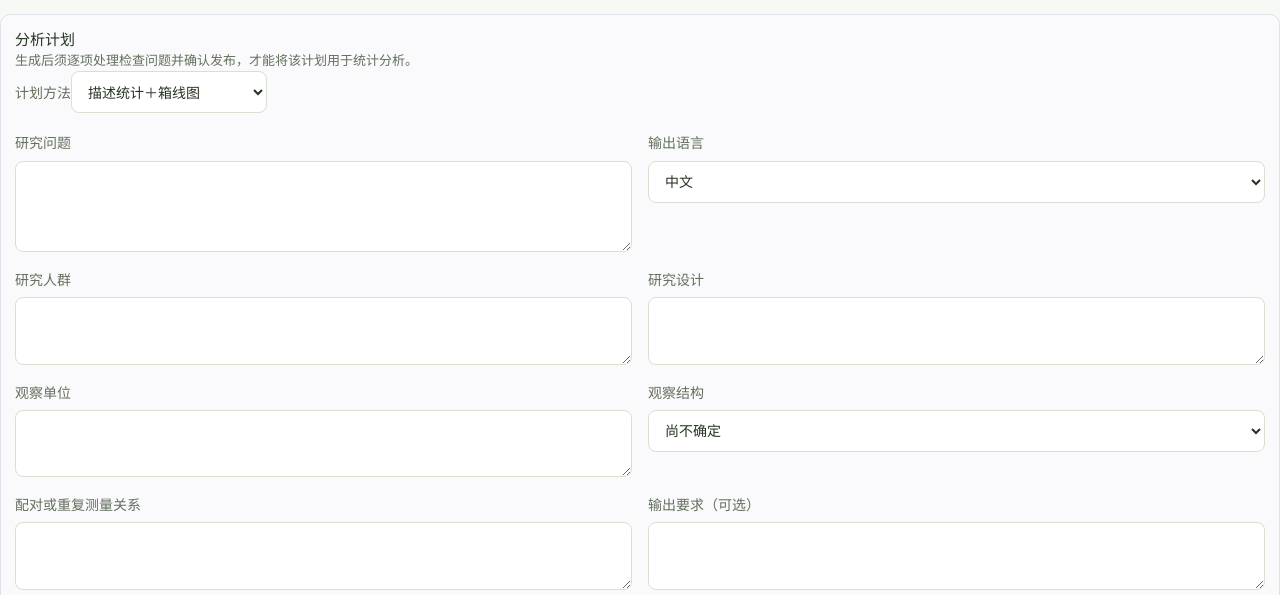
six comparison methods are available and full group options preserve user selection order
The width and height of the screenshot is (1280, 595).
Select "Welch t" in the dropdown labelled "计划方法": (169, 92) [71,71,267,113]
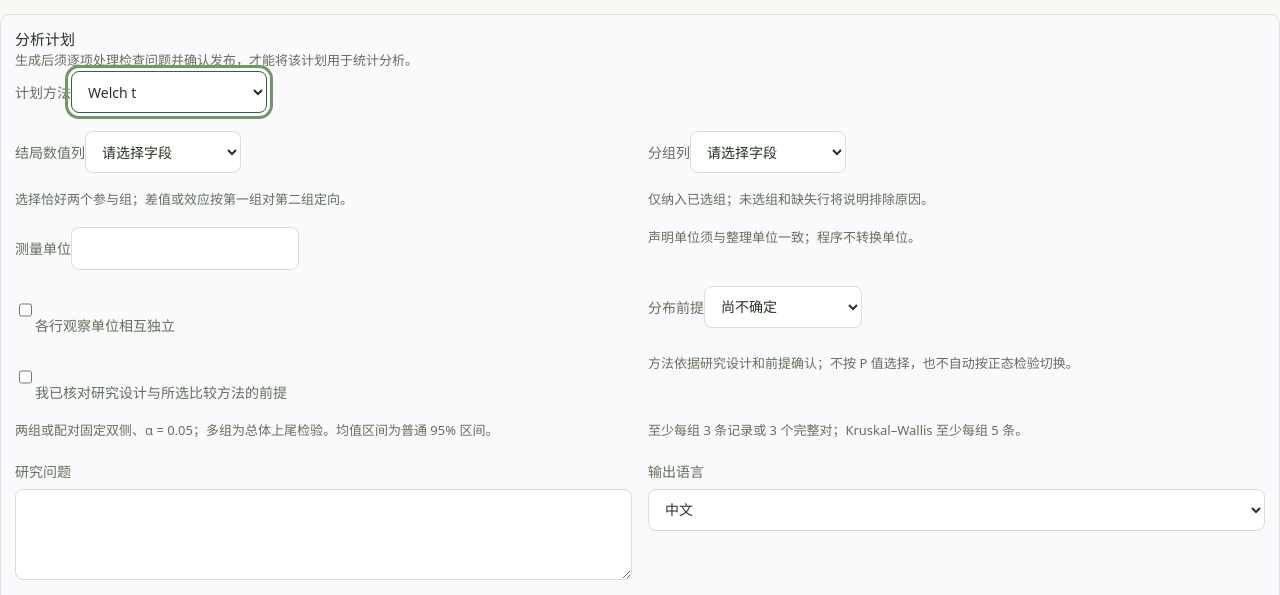
Select "C · Outcome" in the dropdown labelled "结局数值列": (163, 152) [85,131,241,173]
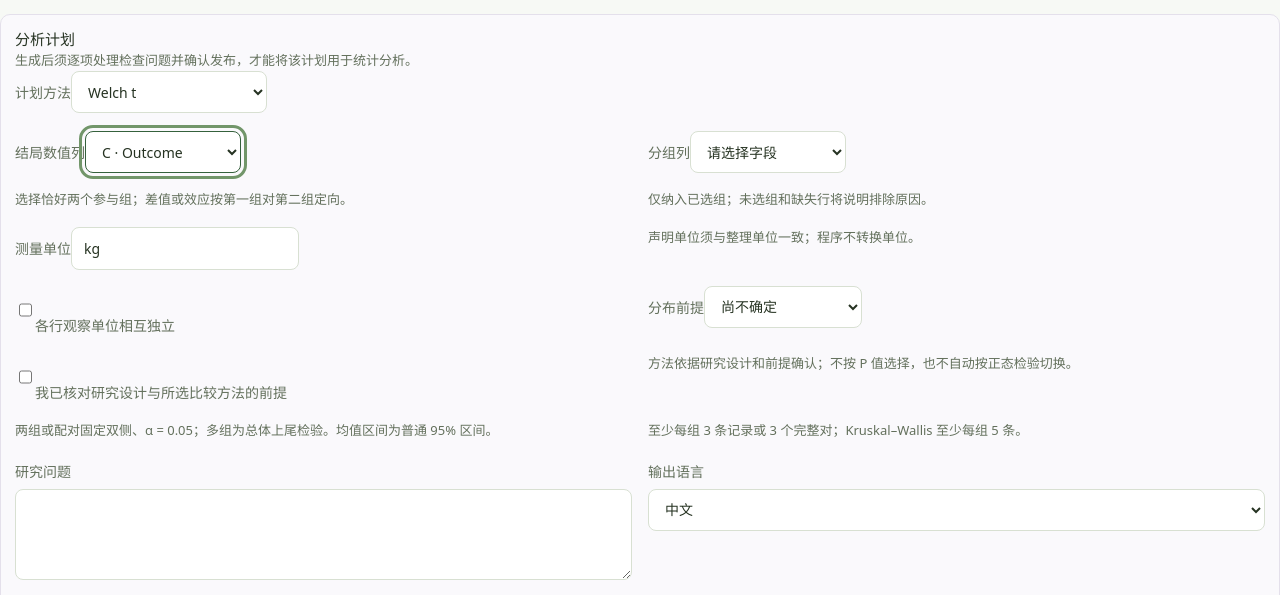
Select "D · Group" in the dropdown labelled "分组列": (768, 152) [690,131,846,173]
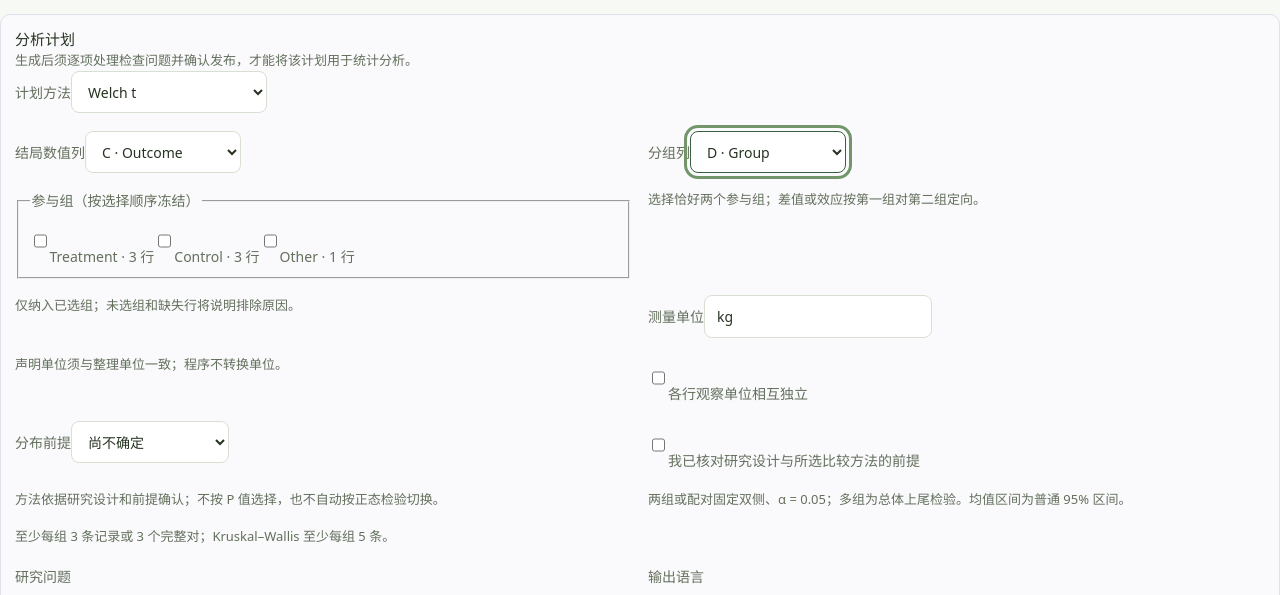
Now the checkbox named "纳入 Control（3 行）" is shown
Click the checkbox named "纳入 Control（3 行）": (165, 241) [158,220,171,262]
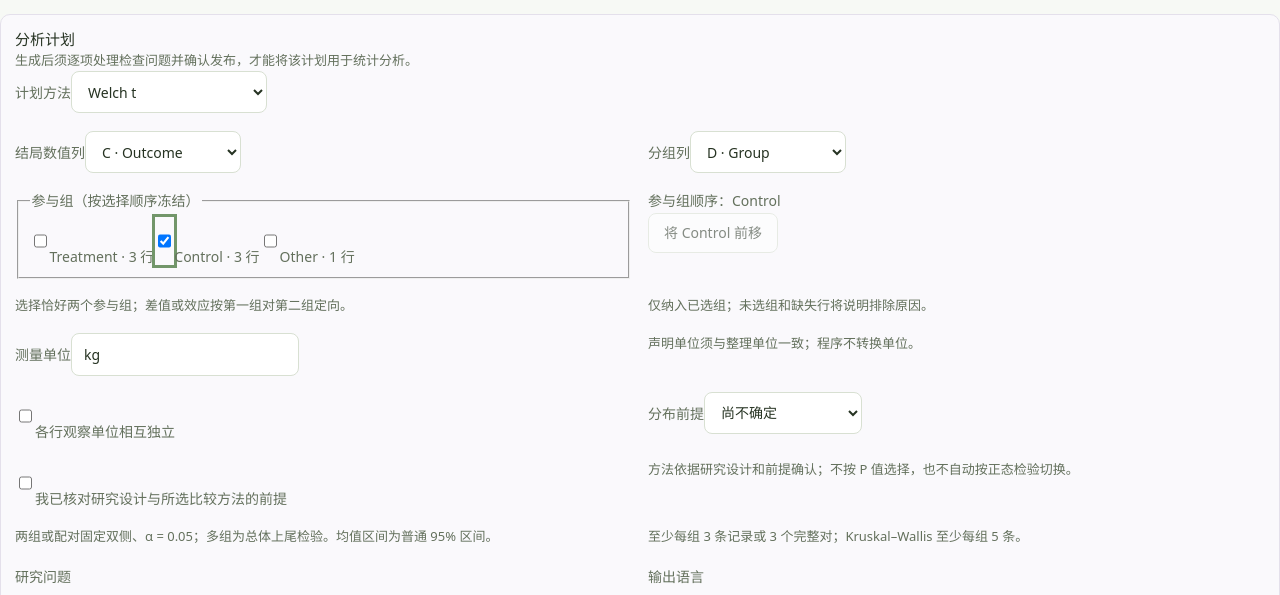
Click the checkbox named "纳入 Treatment（3 行）": (40, 241) [34,220,46,262]
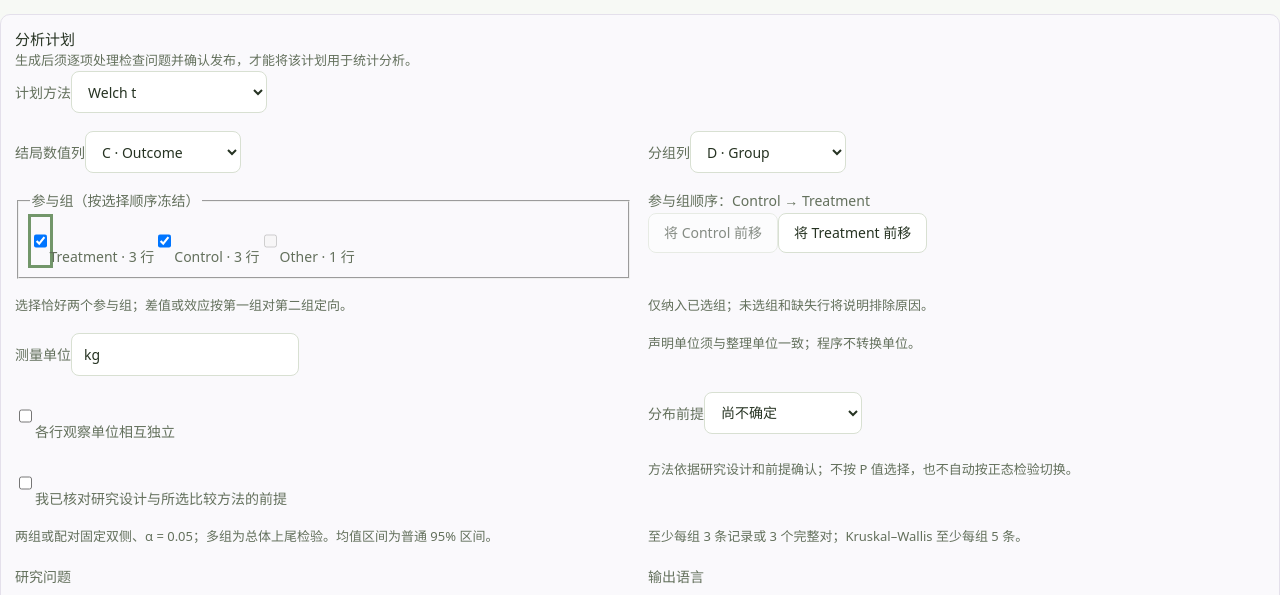
Now the text "仅纳入已选组；未选组和缺失行将说明排除原因。" is shown, box [648,296,934,314]
Now the text "参与组顺序：Control → Treatment" is shown, box [648,191,870,210]
